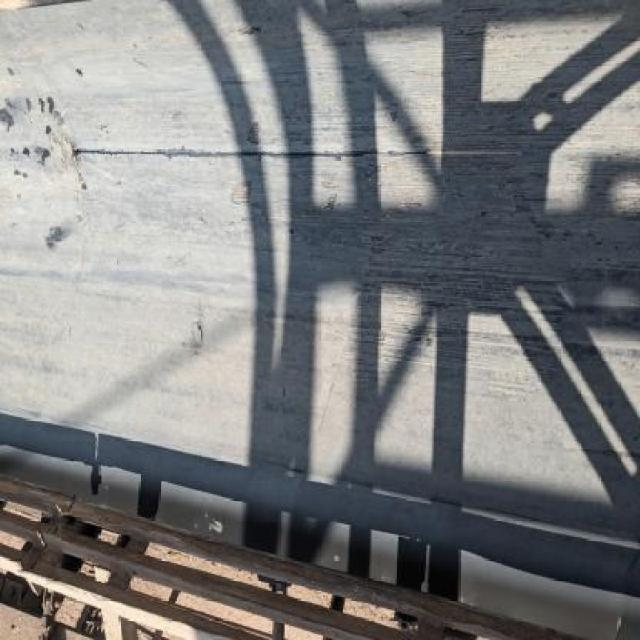Impact Damage: (221, 178, 257, 208), (244, 118, 264, 148)
Tear: (68, 134, 530, 167), (190, 318, 208, 348), (278, 384, 292, 402)
